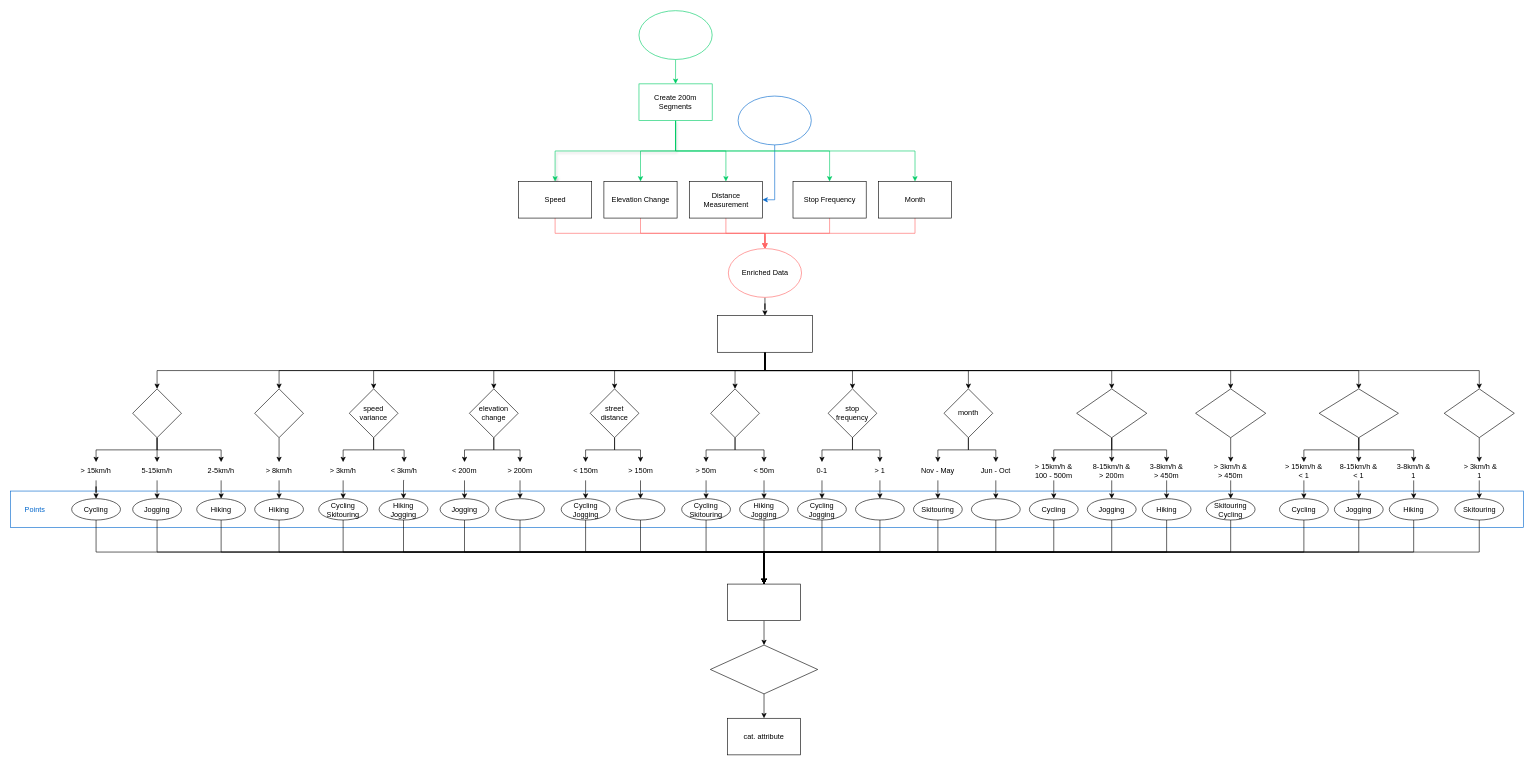
Image size: 1534x766. Some labels were removed from this diagram. The shapes that lost their labels are listed below. From the top down, each one's centre as x and y in pixels, then its label:
At point (675, 34): "GPX Data".
At point (774, 120): "SwissTLM3D".
At point (765, 333): "Classification Model".
At point (156, 413): "average speed".
At point (278, 413): "max speed".
At point (734, 413): "hiking path distance".
At point (1111, 413): "avg. speed & elevation".
At point (1230, 413): "speed var. & elevation".
At point (1358, 413): "avg. speed & stop freq.".
At point (1479, 413): "speed var. & stop freq.".
At point (519, 509): "Cycling Hiking Skitouring".
At point (640, 509): "Skitouring Hiking".
At point (879, 509): "Hiking Skitouring".
At point (995, 509): "Hiking Cycling".
At point (764, 602): "sum up points".
At point (764, 669): "max point ratio".
